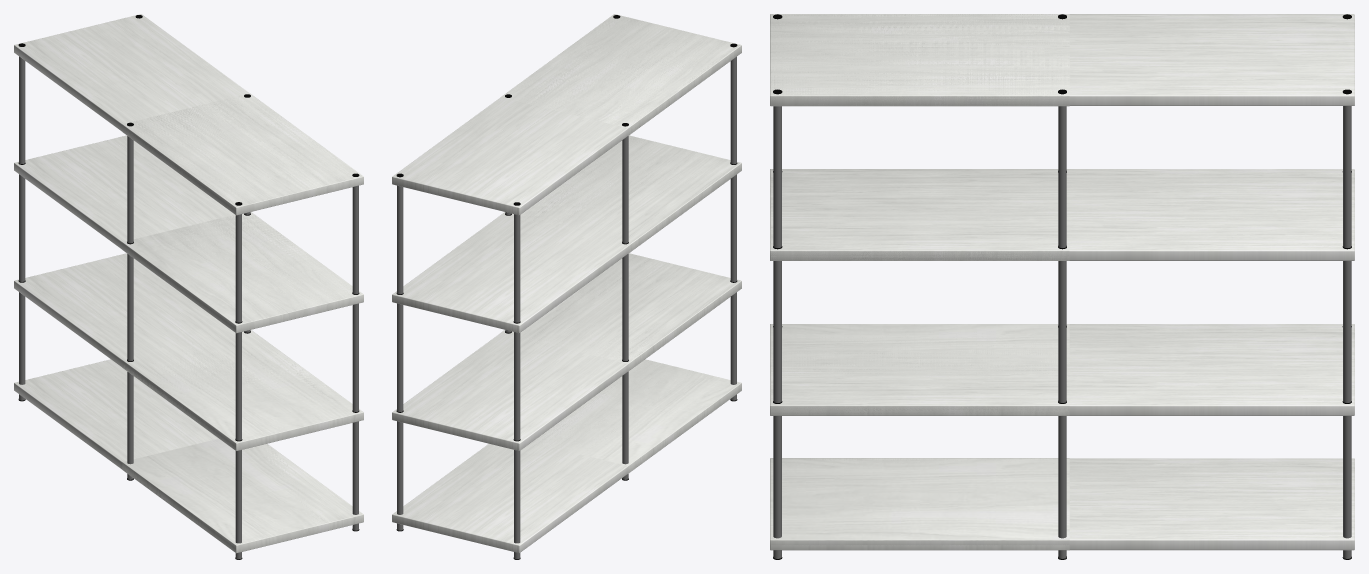
Rendered from rack-final.glb.
3 views of the same model, side by side, from view 1: azimuth 30°, elevation 25°; view 2: azimuth 150°, elevation 25°; view 3: azimuth 270°, elevation 25° (orthographic). The views are drawn at different scales.
Visible parts, largest first — view 1: 06-tabla, 04-tabla-sup, 05-tabla, 02-tabla, 01-tabla-inf, 04-tabla-inf, 01-tabla-sup, 03-tabla, 03-caño, 02-caños, 01-caño, 05-caños (+2 smaller); view 2: 06-tabla, 04-tabla-sup, 05-tabla, 04-tabla-inf, 03-tabla, 01-tabla-inf, 02-tabla, 01-tabla-sup, 06-caños, 05-caños, 04-caños; view 3: 05-tabla, 06-tabla, 04-tabla-sup, 04-tabla-inf, 01-tabla-inf, 03-tabla, 01-tabla-sup, 02-tabla, 05-caños, 06-caños, 04-caños, 02-caños (+2 smaller).
Part boxes in pixels (x1,y1,x2,y2): 06-tabla: (14,14,362,214); 04-tabla-sup: (14,253,350,449); 05-tabla: (14,135,362,332); 02-tabla: (122,212,363,333); 01-tabla-inf: (122,438,363,553); 04-tabla-inf: (14,359,362,547); 01-tabla-sup: (122,330,363,450); 03-tabla: (122,93,363,215); 03-caño: (127,136,358,322); 02-caños: (127,254,358,440); 01-caño: (127,372,358,559); 05-caños: (19,174,352,439); 06-tabla: (392,14,740,215); 04-tabla-sup: (392,253,740,450); 05-tabla: (392,136,740,333); 04-tabla-inf: (392,360,739,553); 03-tabla: (501,14,741,135); 01-tabla-inf: (533,359,741,473); 02-tabla: (501,135,741,253); 01-tabla-sup: (501,253,741,371); 06-caños: (397,57,736,322); 05-caños: (397,175,736,440); 04-caños: (397,292,736,559); 05-tabla: (771,169,1354,260); 06-tabla: (771,14,1354,105); 04-tabla-sup: (771,324,1354,415); 04-tabla-inf: (771,458,1354,550); 01-tabla-inf: (770,458,1069,550); 03-tabla: (770,14,1069,106); 01-tabla-sup: (770,324,1069,415); 02-tabla: (770,169,1069,260); 05-caños: (777,261,1351,402); 06-caños: (777,106,1351,247); 04-caños: (777,416,1351,558); 02-caños: (773,261,1062,402).
Size of the model in its own units: 0.3406 by 0.9035 by 1.03.
Materials: 20 (7 with a texture image).
